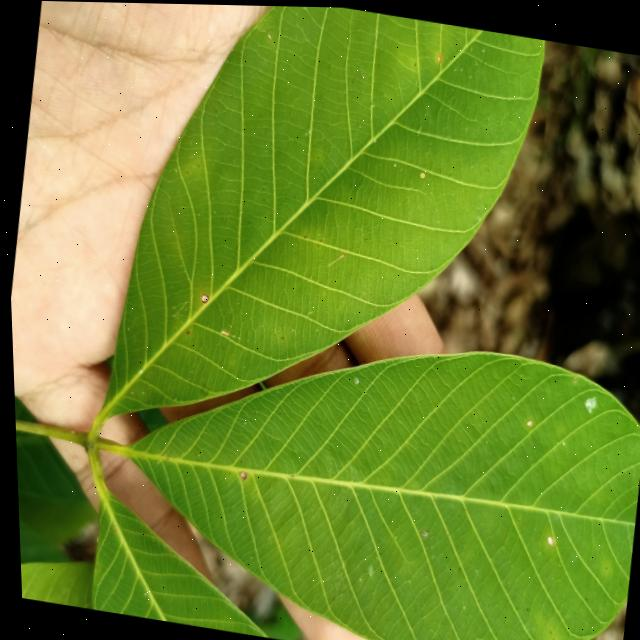Colletotrichum: (199, 294, 208, 303), (542, 533, 549, 543), (237, 470, 244, 479), (436, 53, 442, 61), (418, 170, 424, 177), (523, 418, 528, 424), (546, 637, 553, 640)
